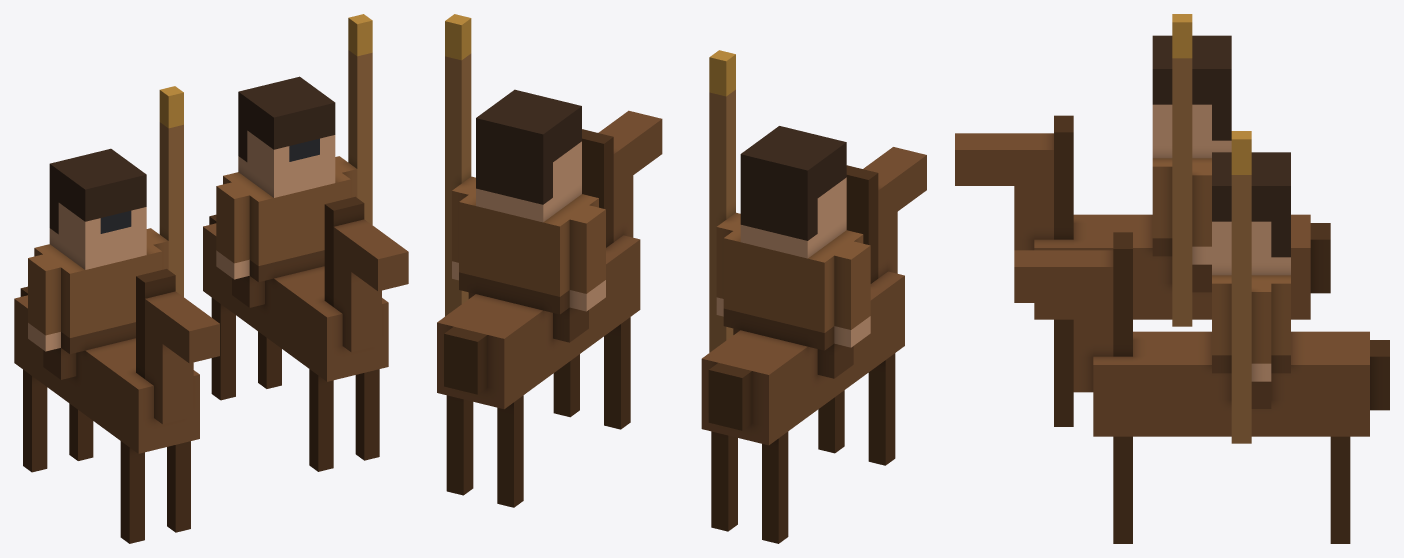
File: u_horse.glb
3 views of the same model, side by side, from view 1: azimuth 30°, elevation 25°; view 2: azimuth 150°, elevation 25°; view 3: azimuth 270°, elevation 25° (orthographic). The views are drawn at different scales.
Parts seen in each view (by area): view 1: u_horse_body; view 2: u_horse_body; view 3: u_horse_body.
Boxes of the visible parts, x1,y1,x2,y2 form: u_horse_body: (14, 14, 408, 543); u_horse_body: (437, 14, 926, 543); u_horse_body: (955, 14, 1389, 543).
Size of the model in its own units: 1.44 by 1.5 by 1.38.
1 material, 1 textured.
